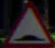Speed Breaker ahead: (2, 6, 50, 43)
